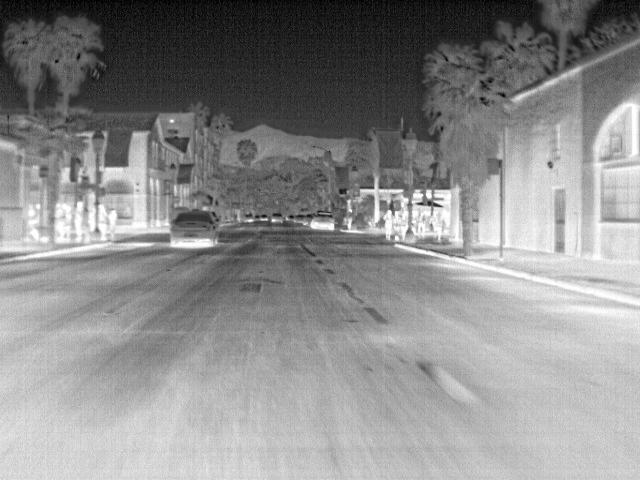car: (166, 209, 218, 250), (309, 209, 335, 233), (269, 213, 285, 226), (241, 211, 256, 224)
person: (70, 200, 85, 244), (429, 213, 445, 244), (94, 203, 106, 244), (382, 209, 396, 244), (106, 207, 120, 240)
